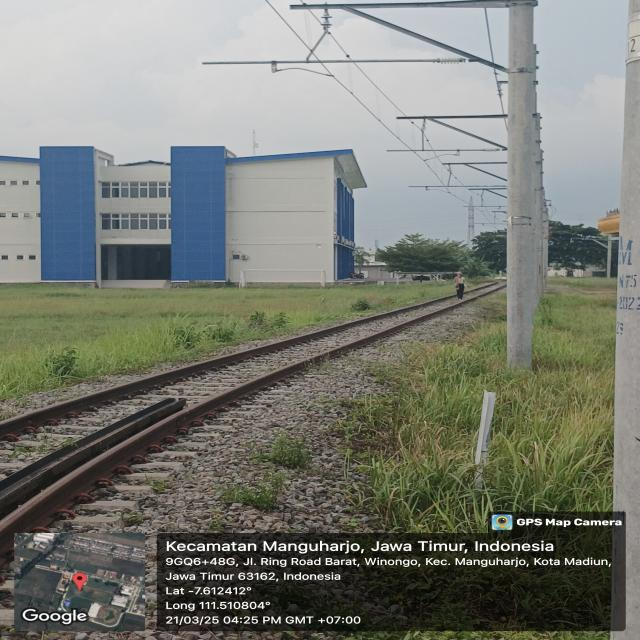rail-detection: (0, 283, 504, 554), (0, 300, 439, 435), (0, 398, 186, 518), (230, 313, 433, 400)
